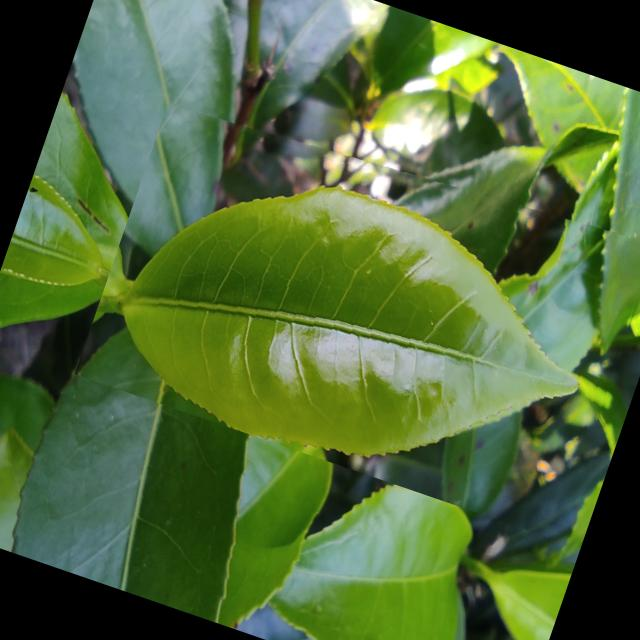Category B(2-4 days): (73, 78, 640, 539)
